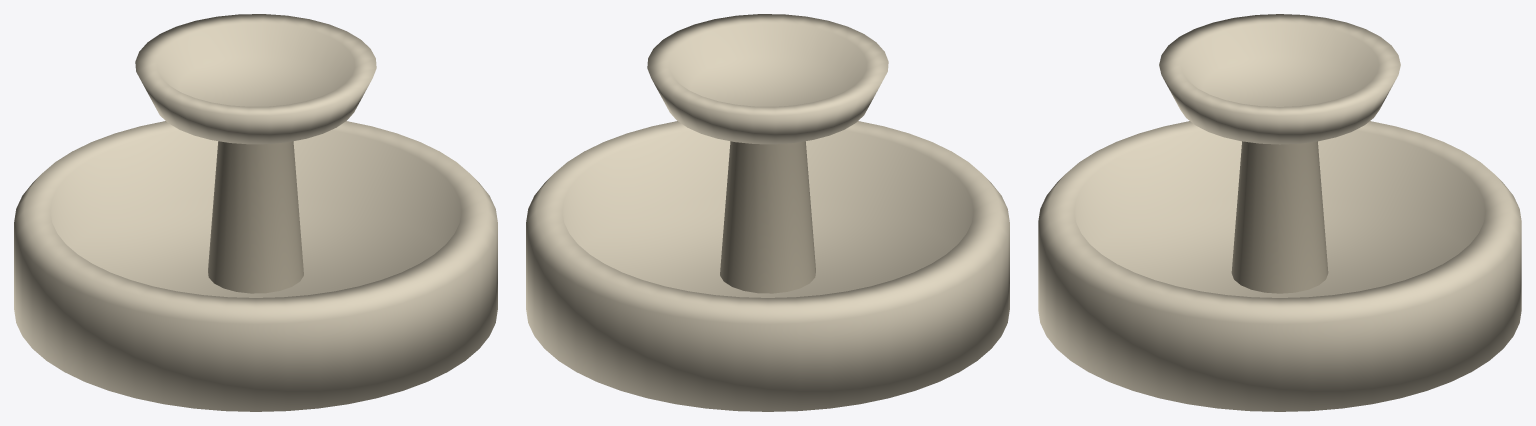
Rendered from fountain_2.glb.
3 views of the same model, side by side, from view 1: azimuth 30°, elevation 25°; view 2: azimuth 150°, elevation 25°; view 3: azimuth 270°, elevation 25° (orthographic).
Parts seen in each view (by area): view 1: fountain_2; view 2: fountain_2; view 3: fountain_2.
Boxes of the visible parts, x1=… form: fountain_2: x1=14, y1=14, x2=497, y2=411; fountain_2: x1=526, y1=14, x2=1009, y2=411; fountain_2: x1=1038, y1=14, x2=1521, y2=411.
Bounding box in the file's own units: 1.2 × 0.67 × 1.2.
